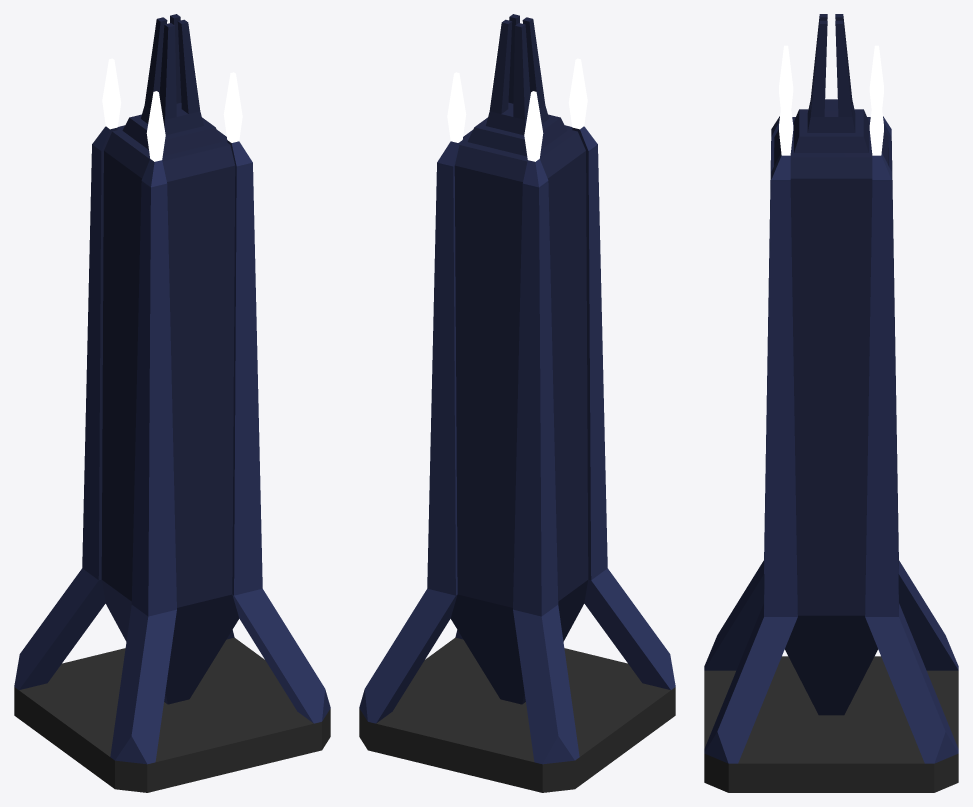
The model's file is BuildingC.fbx.
3 renders of one model, left to right at view 1: azimuth 30°, elevation 25°; view 2: azimuth 150°, elevation 25°; view 3: azimuth 270°, elevation 25°, orthographic. The views are drawn at different scales.
Visible parts, largest first — view 1: Cube.066; view 2: Cube.066; view 3: Cube.066.
Part boxes in pixels (box(x1,y1,x2,y2)): Cube.066: box(14, 14, 330, 792); Cube.066: box(359, 14, 675, 792); Cube.066: box(704, 14, 958, 792).
Size of the model in its own units: 286 by 892 by 286.
Materials: 1 (1 with a texture image).
